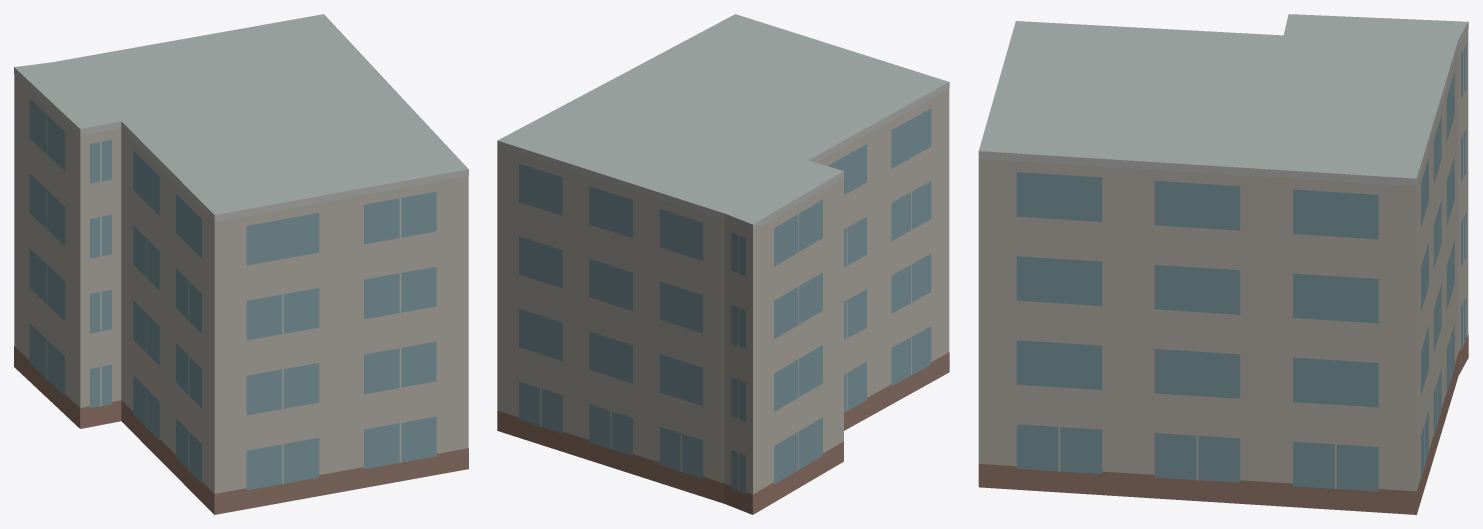
Rendered from survey-upis-32666795.glb.
The picture shows the model from 3 angles, left to right: view 1: azimuth 30°, elevation 25°; view 2: azimuth 150°, elevation 25°; view 3: azimuth 270°, elevation 25°; orthographic projection. The views are drawn at different scales.
Parts seen in each view (by area): view 1: survey-upis-32666795.tmp; view 2: survey-upis-32666795.tmp; view 3: survey-upis-32666795.tmp.
Boxes of the visible parts, box(x1,y1,x2,y2) form: survey-upis-32666795.tmp: box(14, 14, 468, 514); survey-upis-32666795.tmp: box(497, 14, 949, 514); survey-upis-32666795.tmp: box(978, 14, 1468, 514).
Size of the model in its own units: 11.46 by 10.9 by 14.4.
